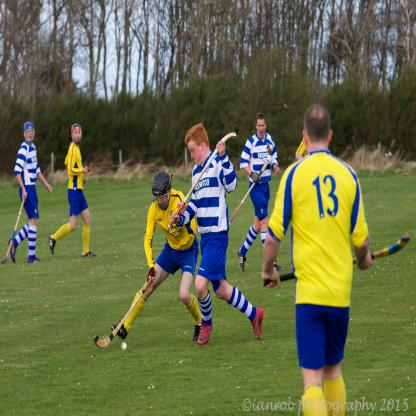Ball: (122, 341, 126, 349)
